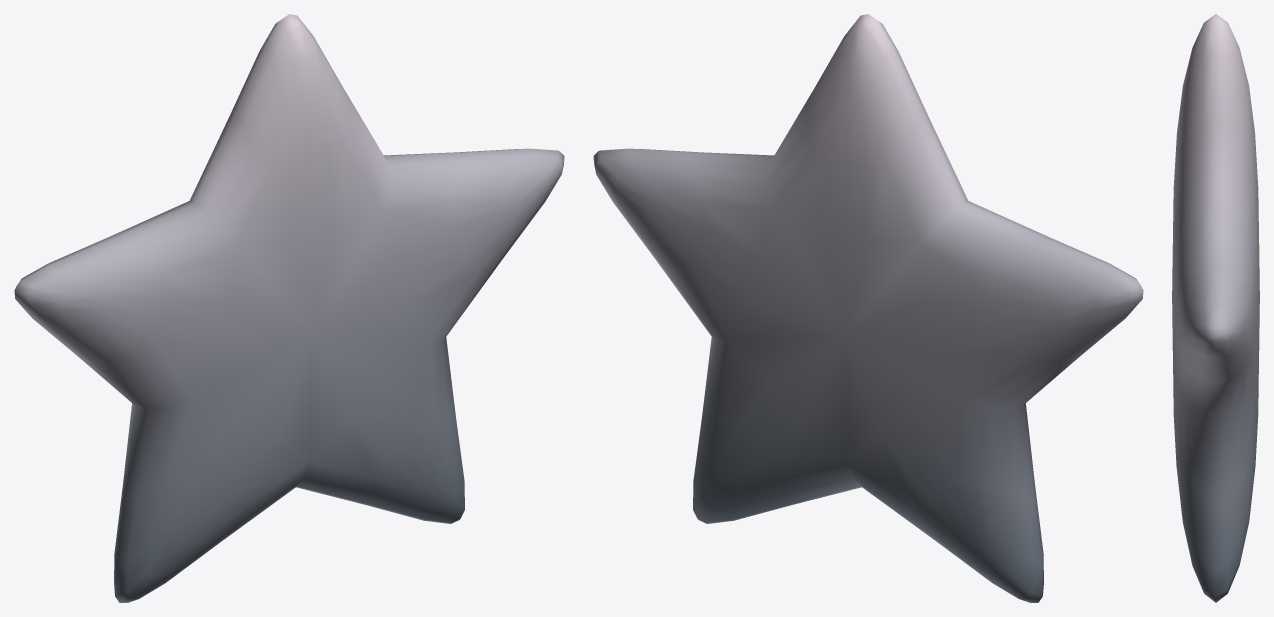
Rendered from Star.fbx.
3 renders of one model, left to right at view 1: azimuth 30°, elevation 25°; view 2: azimuth 150°, elevation 25°; view 3: azimuth 270°, elevation 25°, orthographic. The views are drawn at different scales.
Visible parts, largest first — view 1: Star; view 2: Star; view 3: Star.
Boxes of the visible parts, left/top/right/bottom form: Star: left=14, top=14, right=564, bottom=602; Star: left=593, top=14, right=1143, bottom=602; Star: left=1172, top=14, right=1259, bottom=602.
Size of the model in its own units: 263 by 251 by 38.89.
